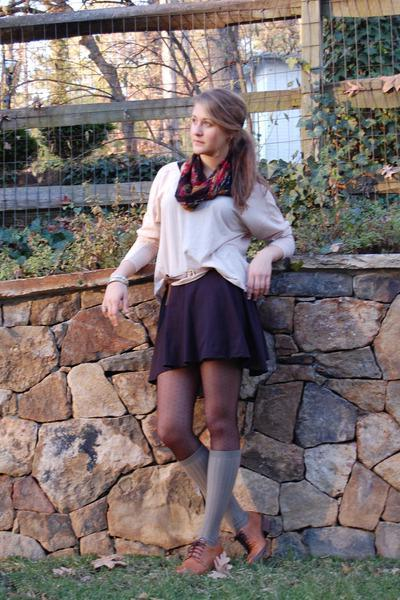long sleeve shirt: (121, 156, 298, 288)
skirt: (138, 273, 273, 382)
